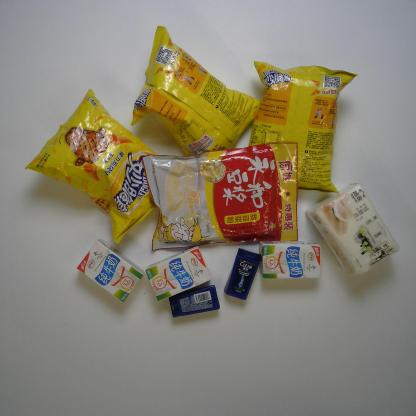Instant Drink: (136, 137, 298, 249)
Milk: (73, 238, 144, 304), (144, 245, 212, 304), (258, 235, 323, 286)
Personal Hygiene: (225, 244, 262, 302), (166, 282, 220, 317)
Puffed Food: (26, 86, 174, 249), (132, 23, 267, 168), (248, 55, 358, 198)
Tissue: (302, 180, 402, 275)
